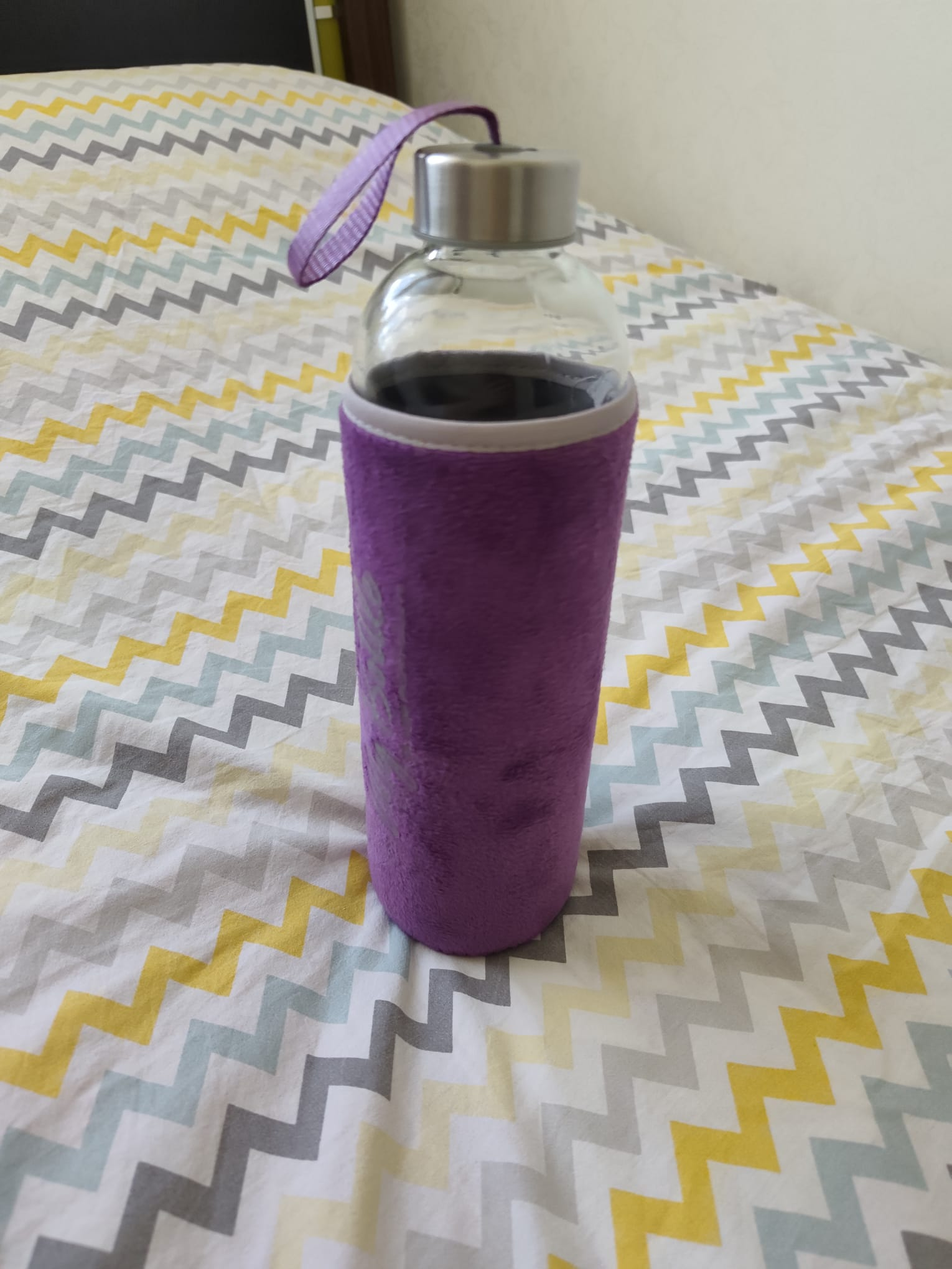su_sisesi: (277, 81, 650, 991)
